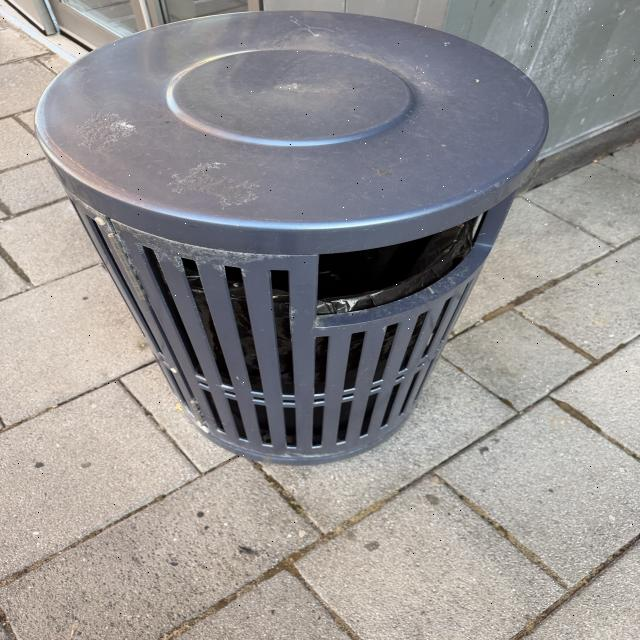Dustbin: (33, 9, 548, 468)
